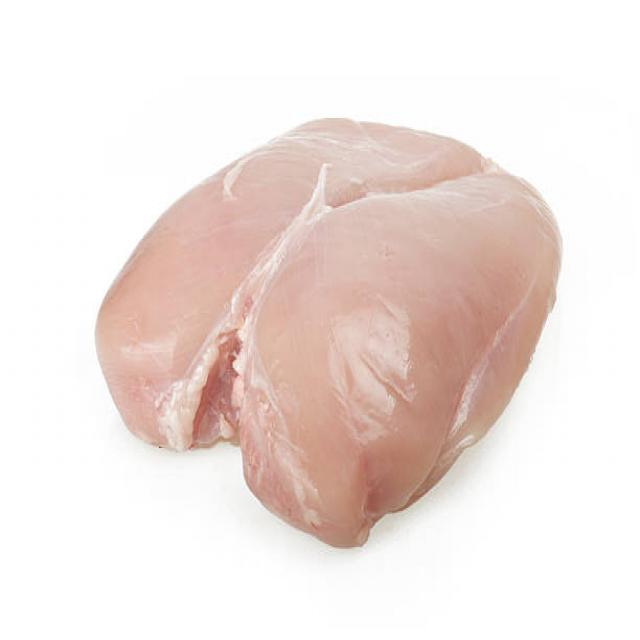Chicken: (89, 61, 573, 548)
